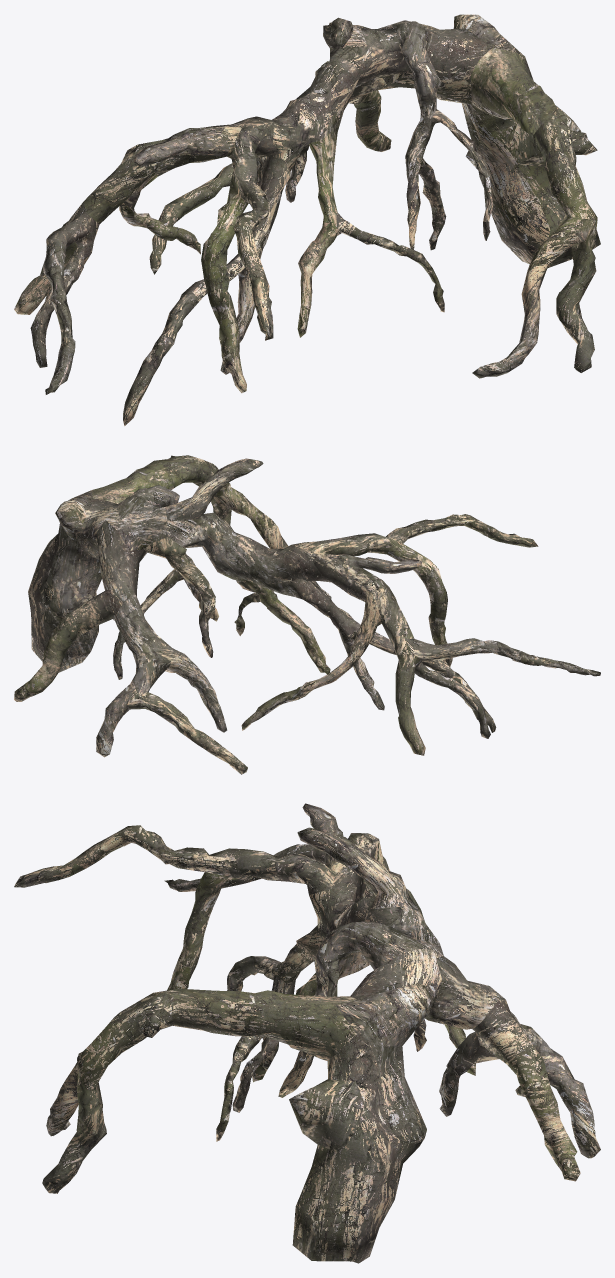
File: SM_TreeRoots_02.fbx
3 views of the same model, one above another, from view 1: azimuth 30°, elevation 25°; view 2: azimuth 150°, elevation 25°; view 3: azimuth 270°, elevation 25° (orthographic). The views are drawn at different scales.
Parts seen in each view (by area): view 1: SM_TreeRoots_02; view 2: SM_TreeRoots_02; view 3: SM_TreeRoots_02.
Part boxes in pixels (bbox=[...]): SM_TreeRoots_02: bbox=[14, 14, 600, 425]; SM_TreeRoots_02: bbox=[14, 455, 600, 774]; SM_TreeRoots_02: bbox=[14, 803, 600, 1263].
Bounding box in the file's own units: 299 × 228 × 140.
Materials: 1 (1 with a texture image).
